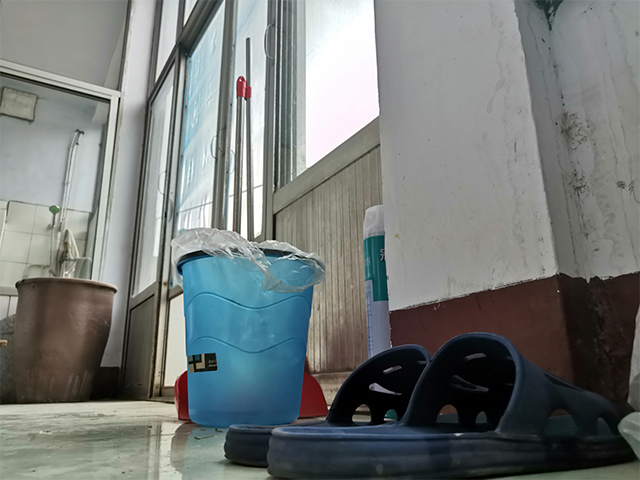slippers: (261, 327, 640, 479), (218, 345, 431, 466)
trashcan: (168, 220, 329, 430)
